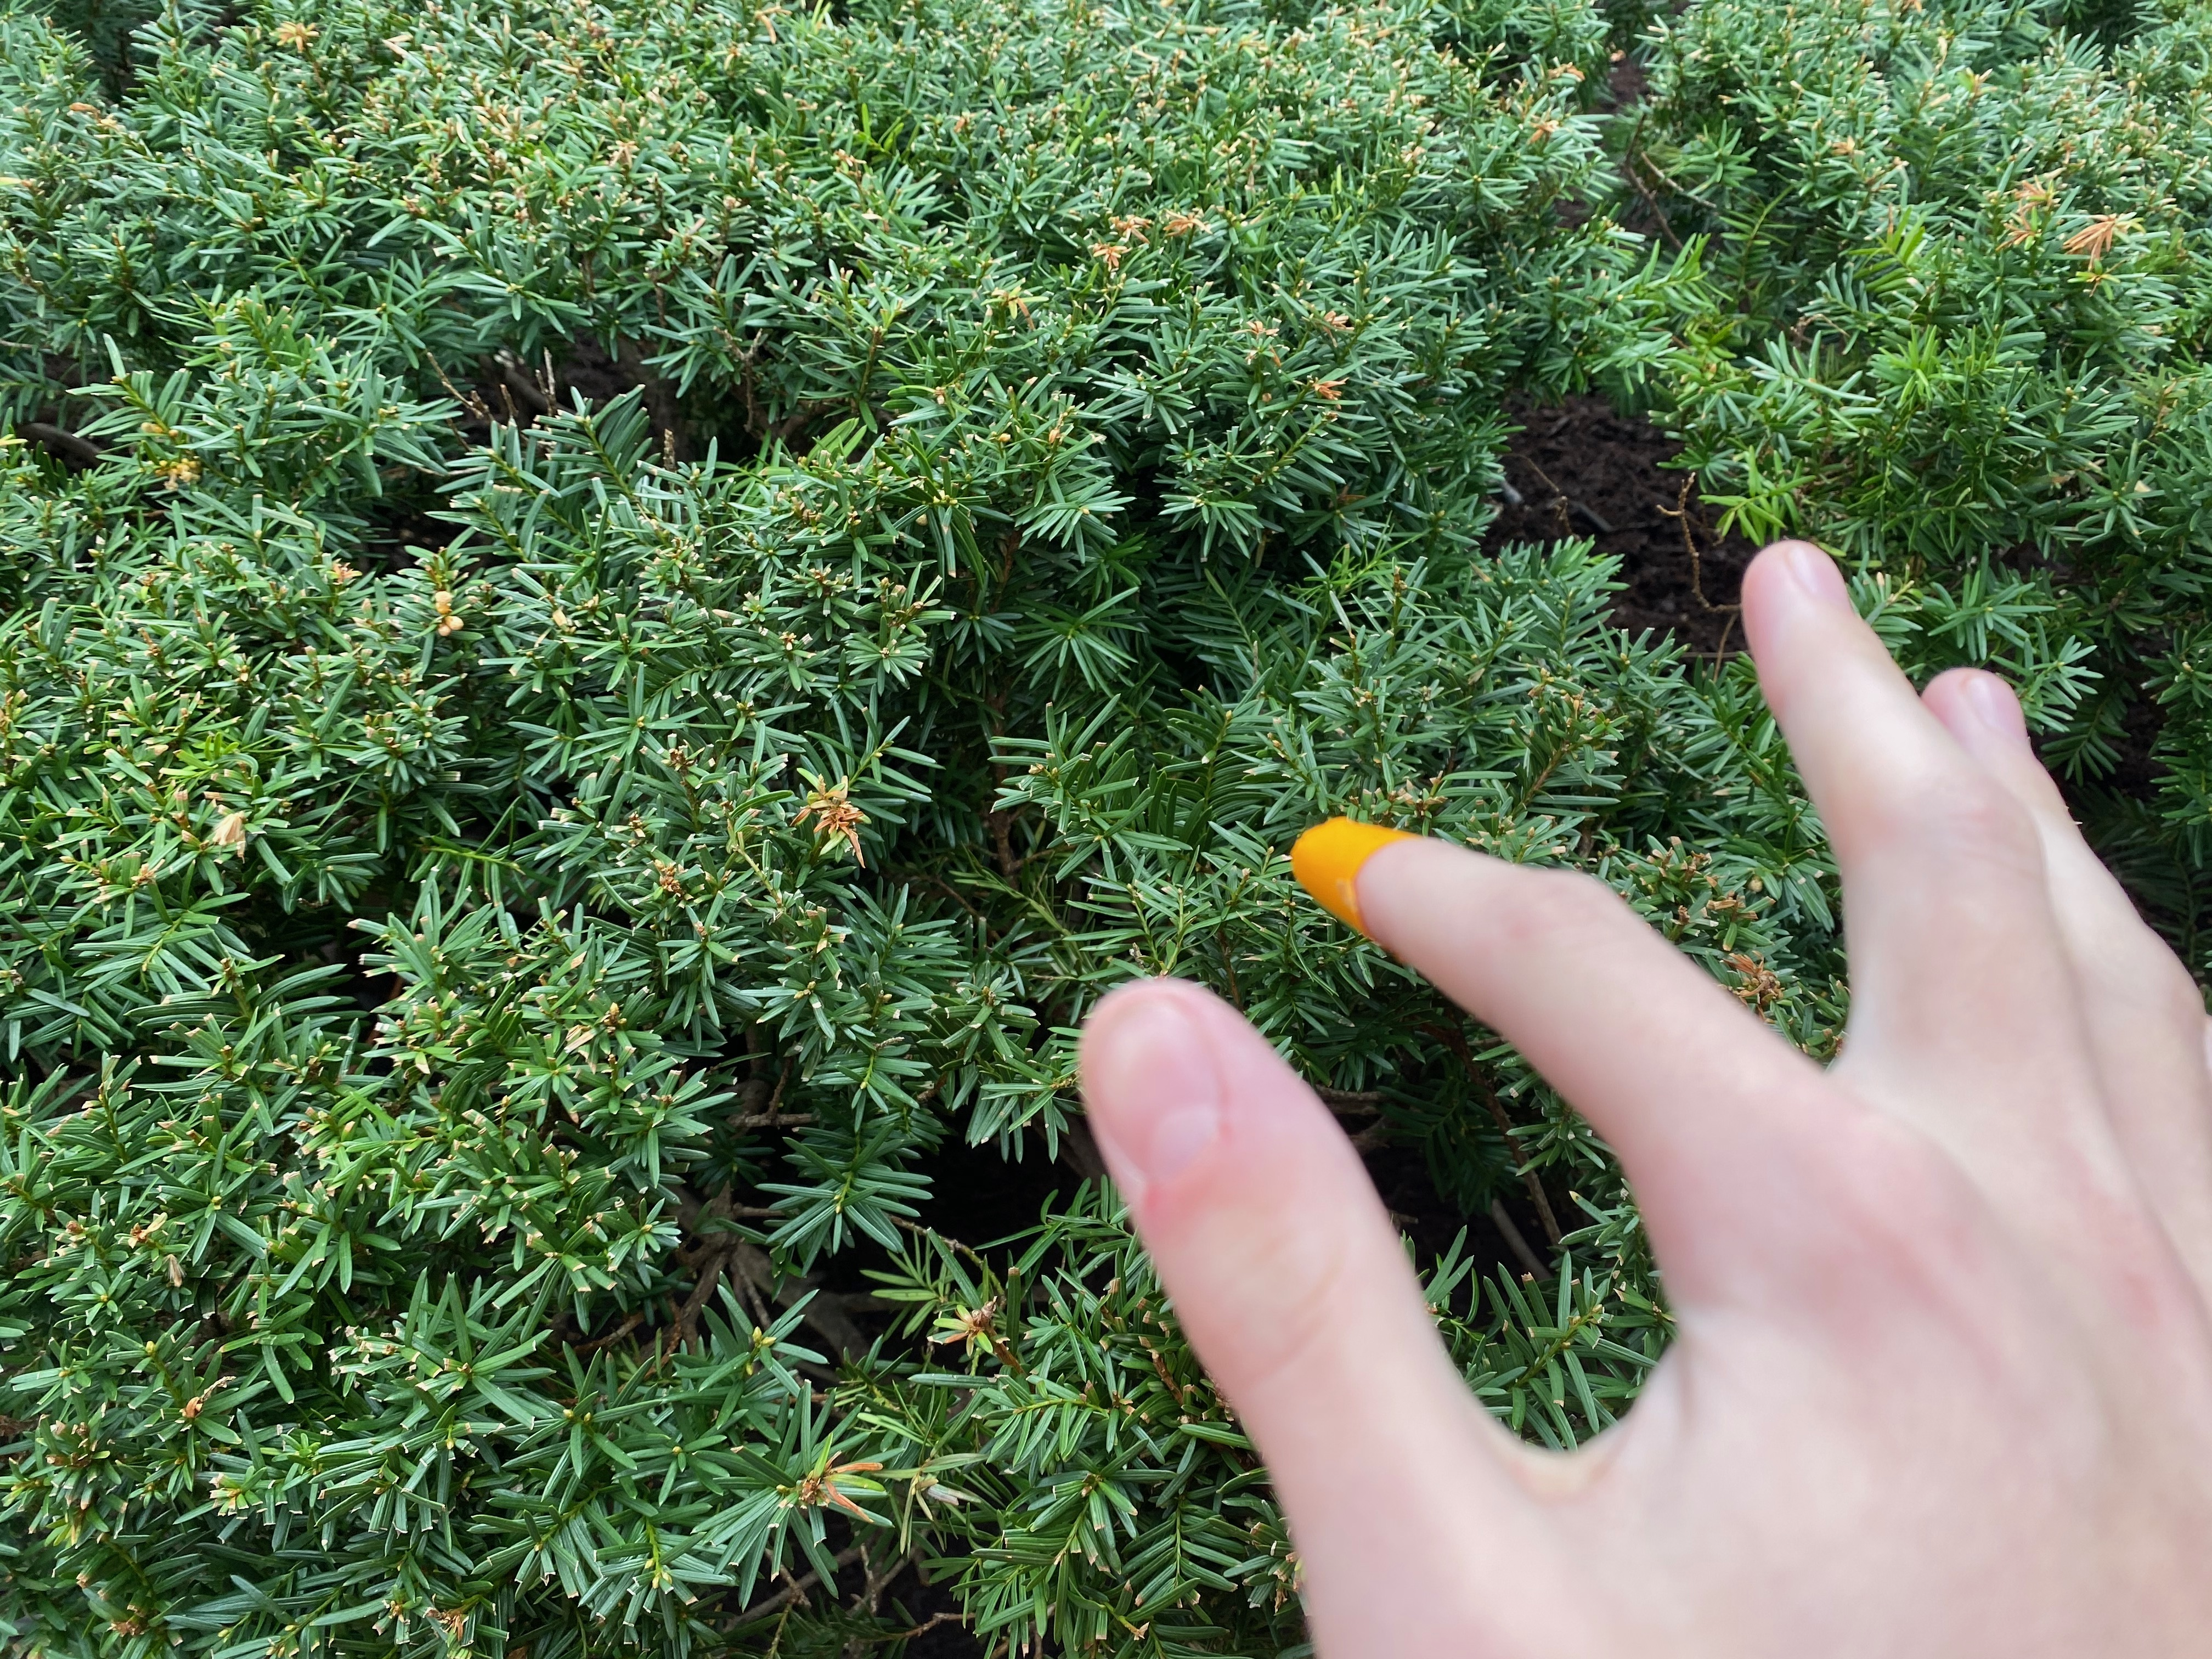fingertip: (1240, 788, 1480, 988)
